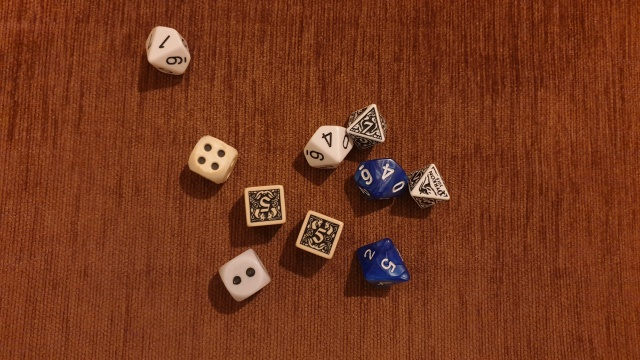d10-1: (140, 21, 198, 82)
d10-4: (352, 154, 411, 204), (299, 122, 355, 168)
d10-5: (354, 234, 415, 291)
d6-2: (213, 246, 276, 308)
d6-4: (184, 128, 241, 192)
d6p-5: (294, 206, 345, 267), (240, 182, 290, 232)
d8p-1: (406, 160, 452, 212)
d8p-7: (345, 101, 385, 153)
